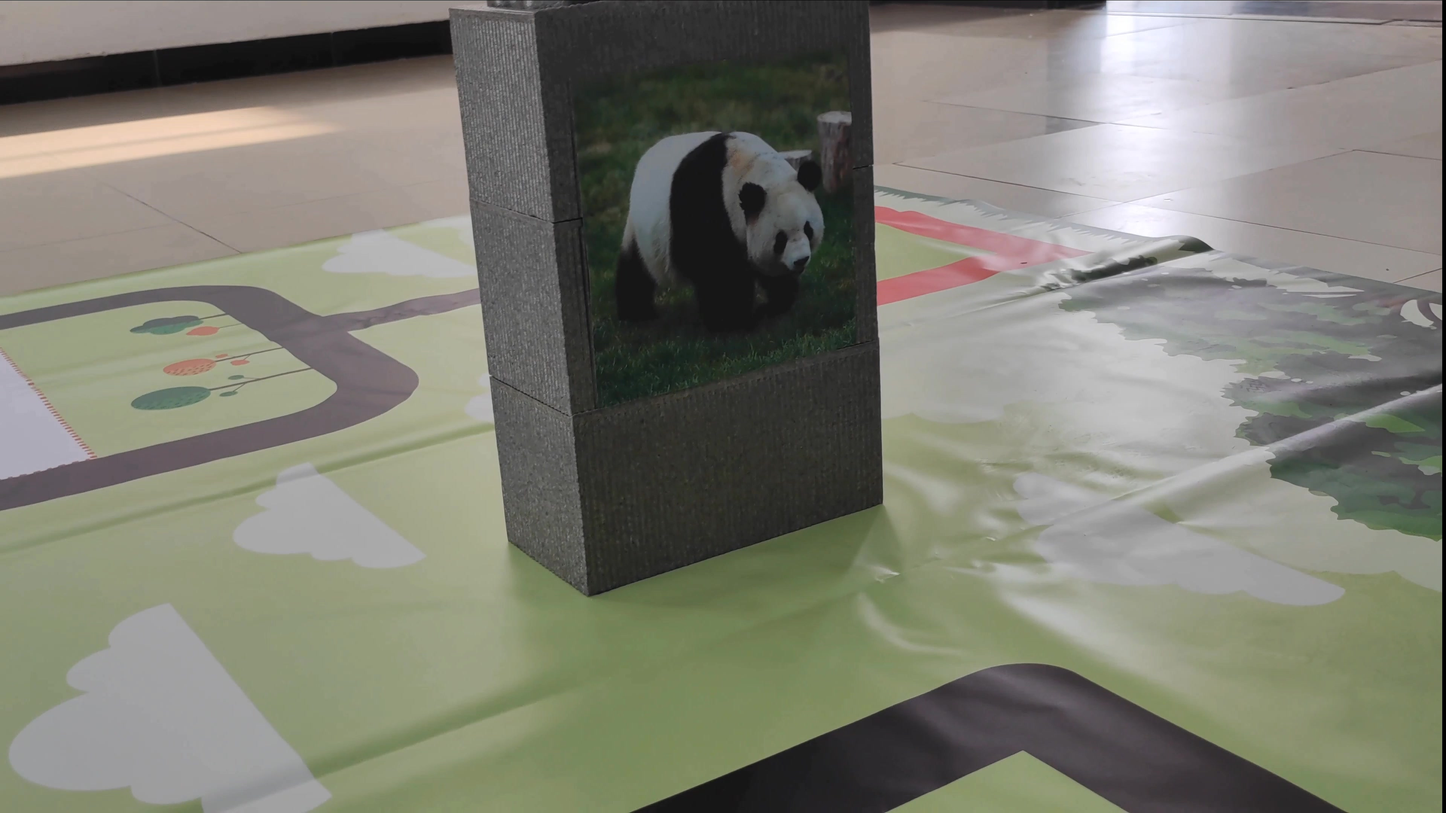panda: (593, 114, 839, 337)
